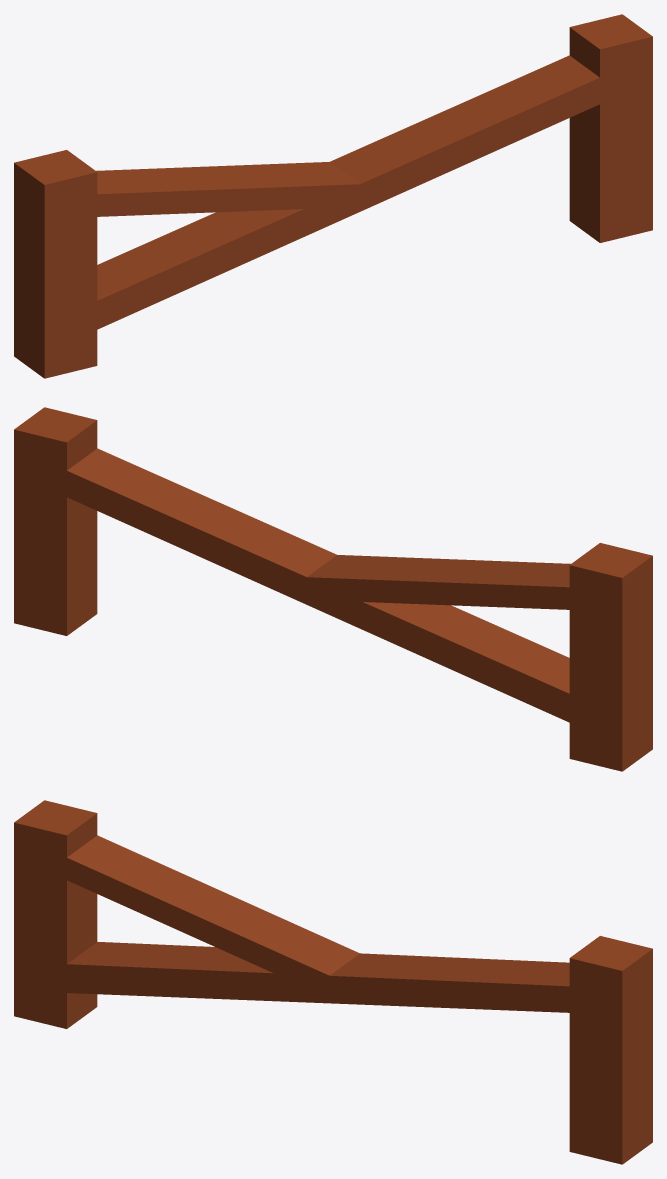
The model's file is fence1.3.fbx.
3 views of the same model, one above another, from view 1: azimuth 30°, elevation 25°; view 2: azimuth 150°, elevation 25°; view 3: azimuth 330°, elevation 25° (orthographic).
Parts seen in each view (by area): view 1: Cube.001; view 2: Cube.001; view 3: Cube.001.
Part boxes in pixels (x1=…): Cube.001: x1=14, y1=14, x2=652, y2=378; Cube.001: x1=14, y1=407, x2=652, y2=771; Cube.001: x1=14, y1=800, x2=652, y2=1164.
Bounding box in the file's own units: 2300 × 700 × 200.
